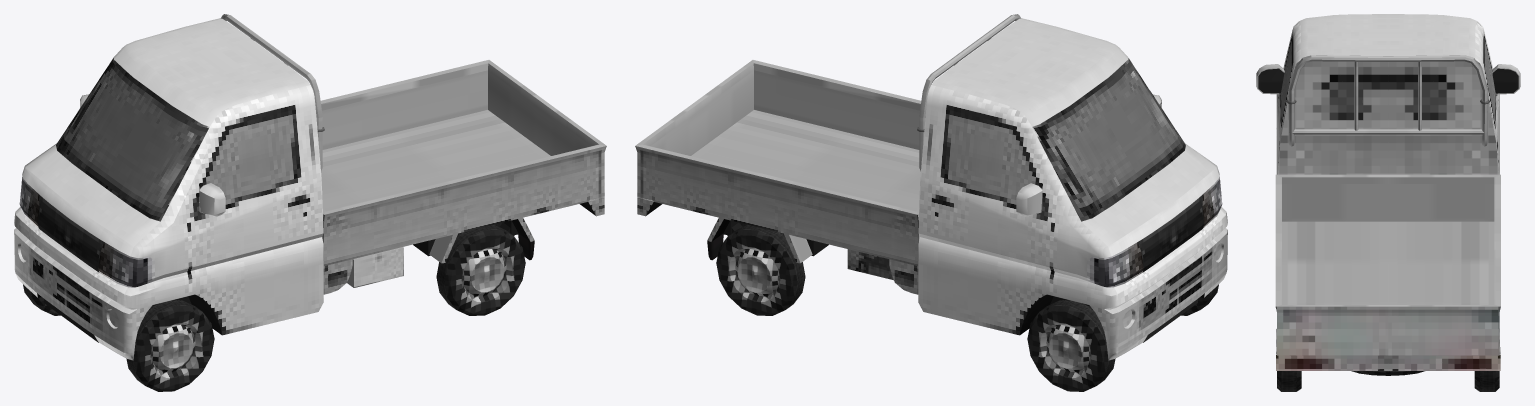
File: MINI_CAR.fbx
The picture shows the model from 3 angles, left to right: view 1: azimuth 30°, elevation 25°; view 2: azimuth 150°, elevation 25°; view 3: azimuth 270°, elevation 25°; orthographic projection. The views are drawn at different scales.
Parts seen in each view (by area): view 1: keytruck; view 2: keytruck; view 3: keytruck.
Boxes of the visible parts, <box> form: keytruck: <box>14,14,606,391</box>; keytruck: <box>635,14,1227,391</box>; keytruck: <box>1256,14,1520,391</box>.
Size of the model in its own units: 918 by 489 by 454.
1 material, 1 textured.
